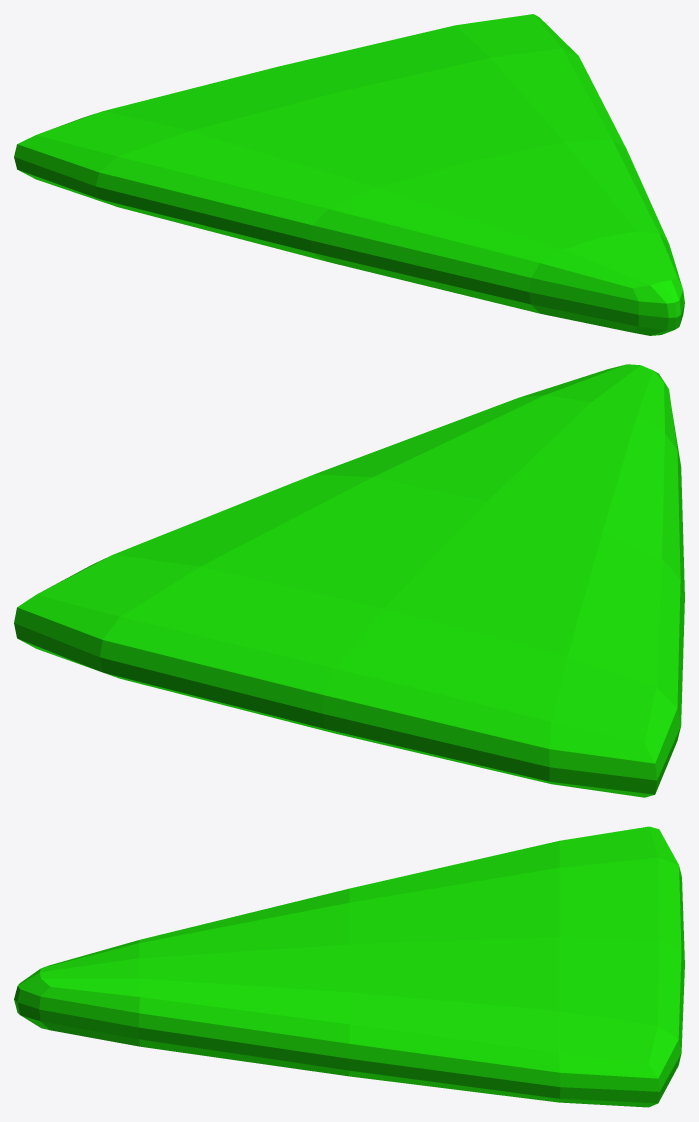
File: Emerald.fbx
The picture shows the model from 3 angles, top to bottom: view 1: azimuth 30°, elevation 25°; view 2: azimuth 150°, elevation 25°; view 3: azimuth 270°, elevation 25°; orthographic projection. The views are drawn at different scales.
Visible parts, largest first — view 1: Cube; view 2: Cube; view 3: Cube.
Part boxes in pixels (x1,y1,x2,y2): Cube: (14,14,684,335); Cube: (14,364,684,797); Cube: (14,826,684,1107).
Size of the model in its own units: 13.2 by 1.88 by 14.9.
